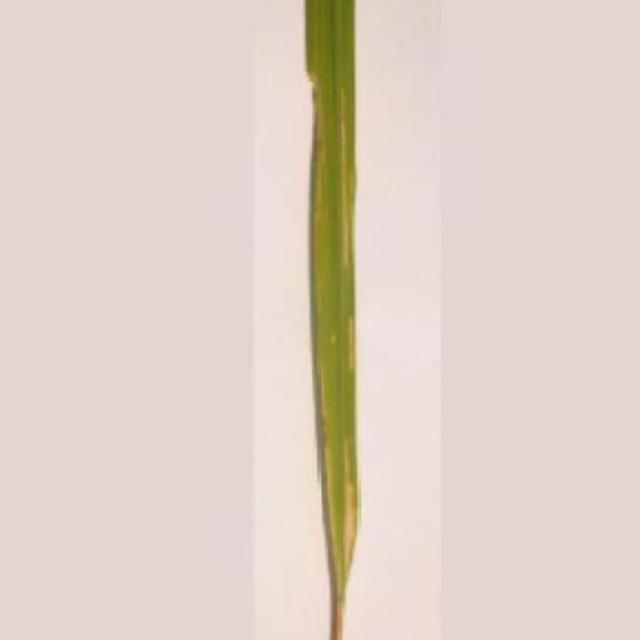Brown_Spot: (296, 0, 367, 640)
